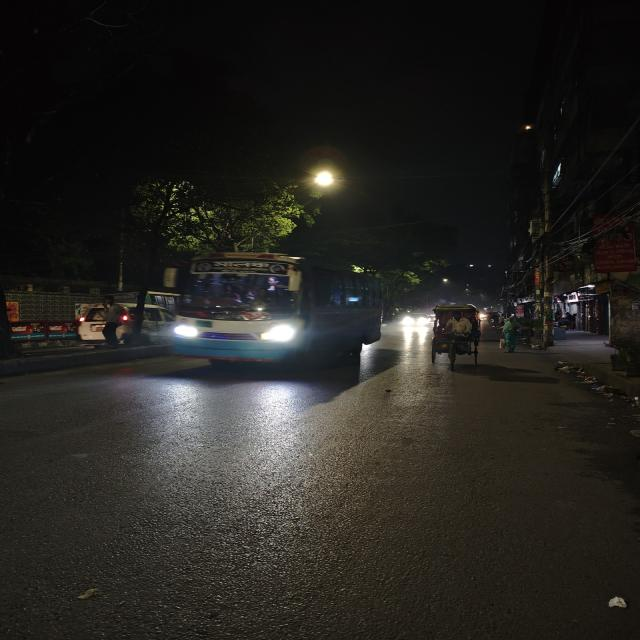bus: (170, 252, 388, 376)
car: (69, 301, 109, 342), (402, 311, 428, 329)
pedestrian: (499, 316, 522, 354)
rickshaw: (427, 307, 486, 369)
